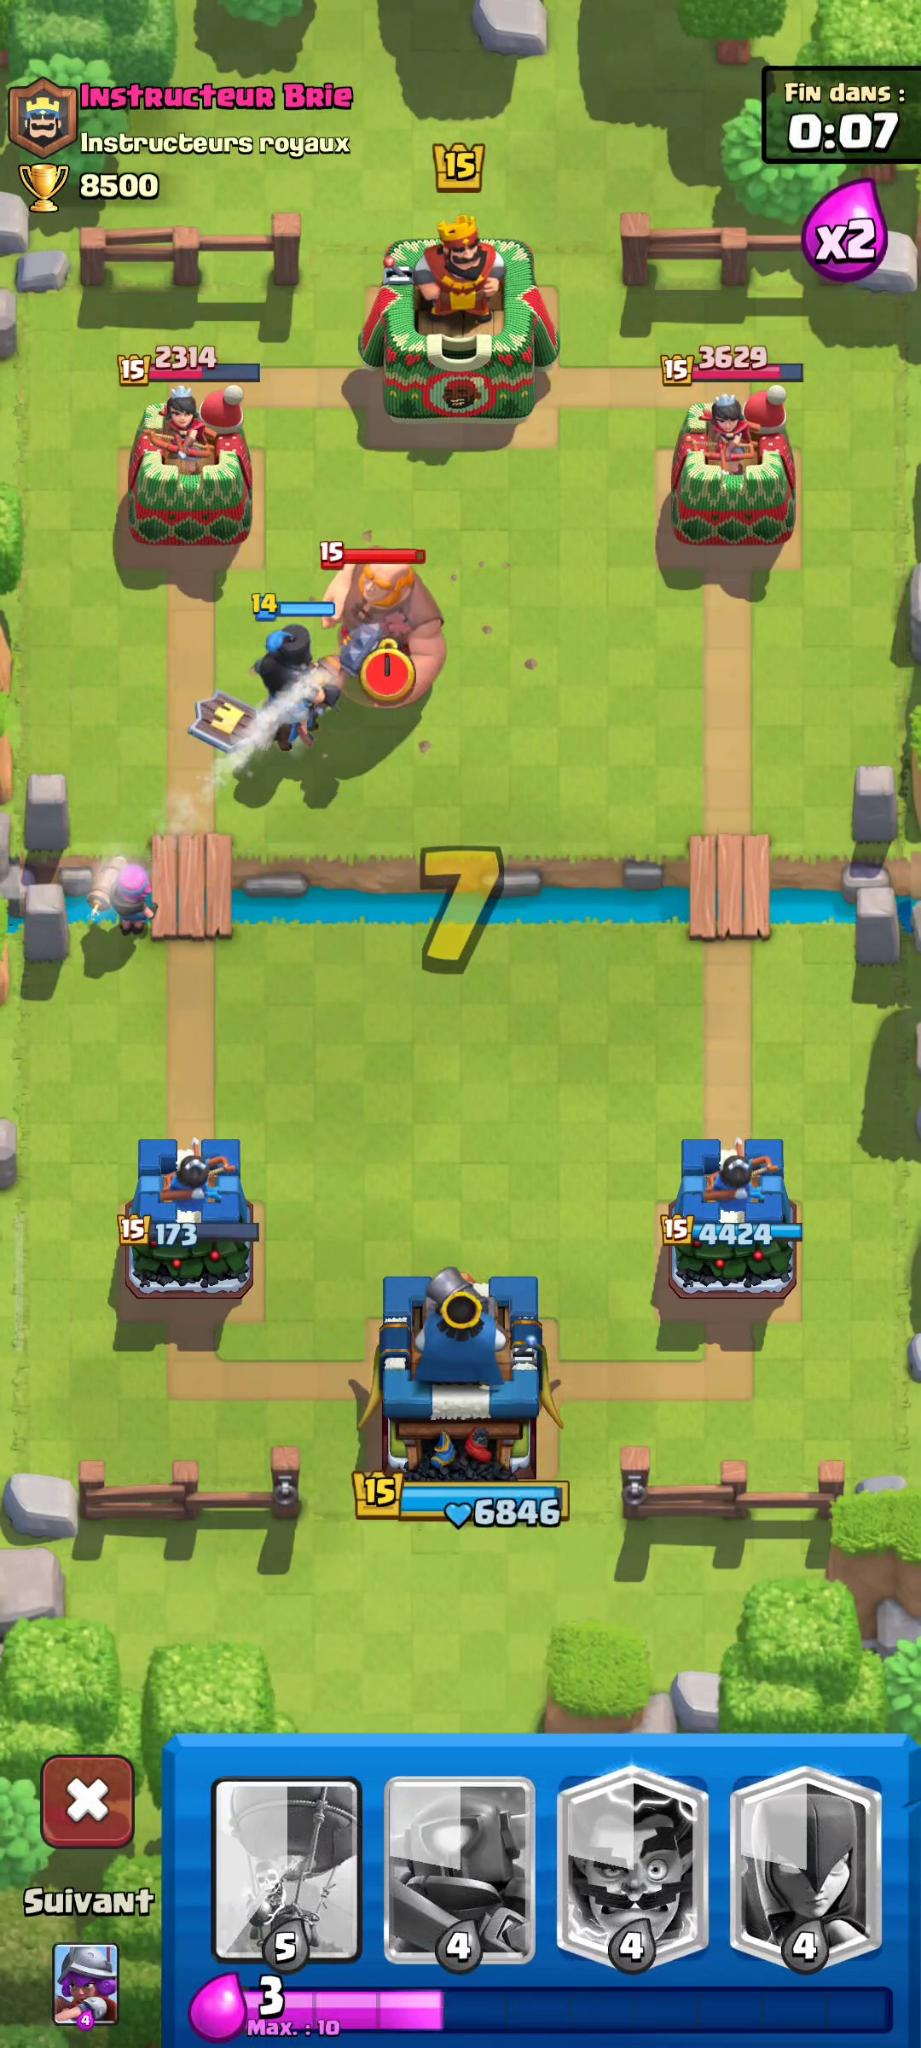geant: (316, 545, 453, 711)
